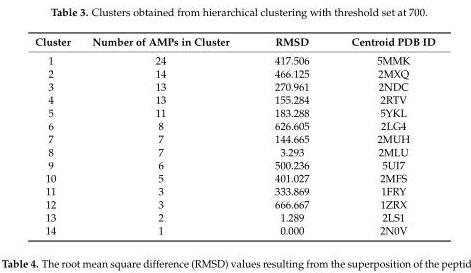table: (34, 34, 434, 236)
table column: (80, 34, 251, 236), (329, 34, 434, 236), (251, 34, 329, 236), (34, 34, 80, 236)
table column header: (34, 34, 434, 50)
table row: (34, 34, 434, 50), (34, 50, 434, 66), (34, 118, 434, 132), (34, 66, 434, 79), (34, 79, 434, 92), (34, 92, 434, 105), (34, 105, 434, 118), (34, 132, 434, 145), (34, 145, 434, 158), (34, 158, 434, 171), (34, 171, 434, 184), (34, 184, 434, 197), (34, 197, 434, 210), (34, 210, 434, 223), (34, 223, 434, 236)
